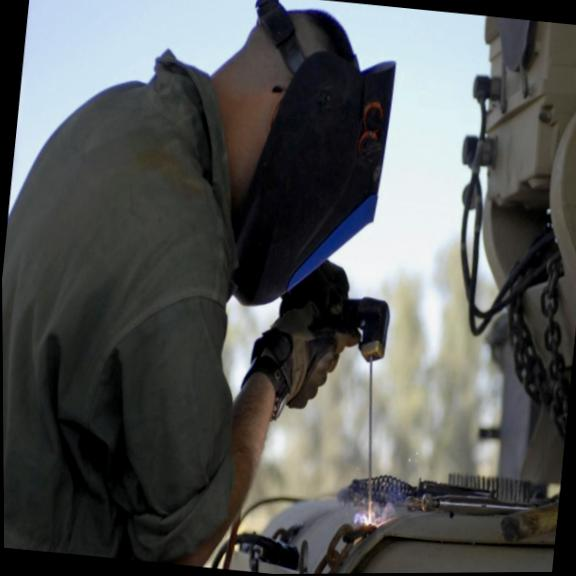no_safety_vest: (0, 26, 275, 500)
